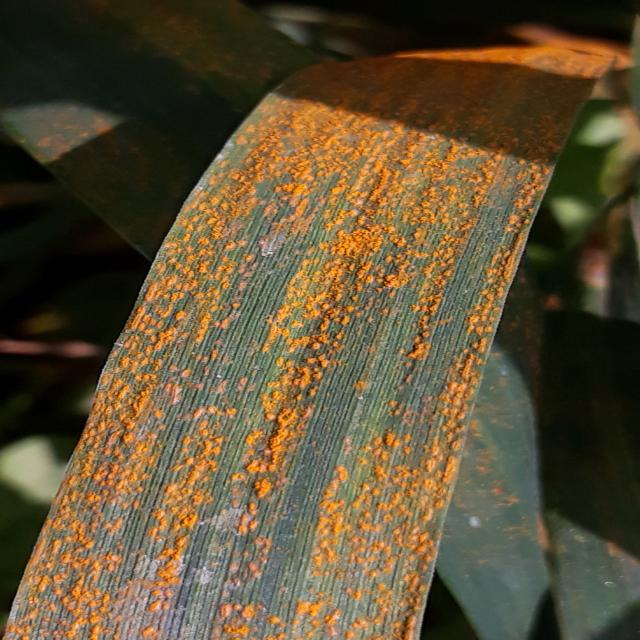yellow_rust: (0, 9, 623, 640)
